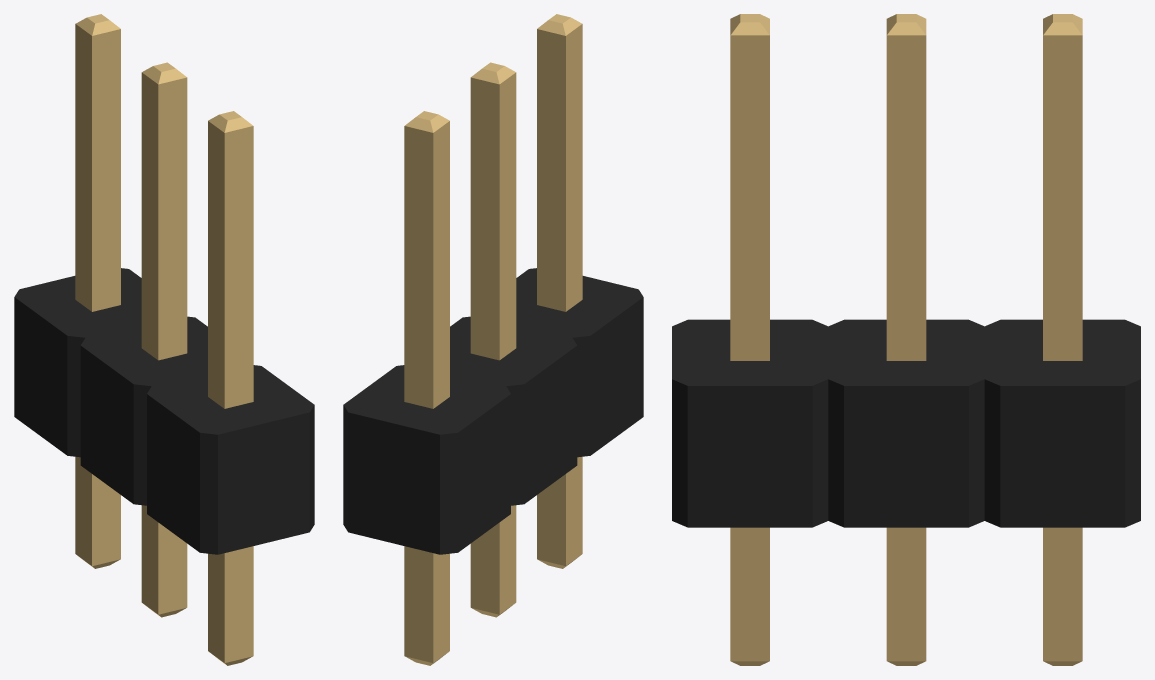
File: pinheader_1x03_p2_54mm_vertical.glb
3 renders of one model, left to right at view 1: azimuth 30°, elevation 25°; view 2: azimuth 150°, elevation 25°; view 3: azimuth 270°, elevation 25°, orthographic. The views are drawn at different scales.
Parts seen in each view (by area): view 1: conn_header_1x03, pin_3, pin_2, pin_1; view 2: conn_header_1x03, pin_1, pin_2, pin_3; view 3: conn_header_1x03, pin_2, pin_1, pin_3.
Part boxes in pixels (x1,y1,x2,y2): conn_header_1x03: [14, 14, 314, 554]; pin_3: [208, 546, 253, 665]; pin_2: [141, 505, 187, 617]; pin_1: [75, 456, 120, 568]; conn_header_1x03: [343, 14, 643, 554]; pin_1: [404, 546, 449, 665]; pin_2: [470, 505, 516, 617]; pin_3: [537, 456, 582, 568]; conn_header_1x03: [672, 14, 1140, 527]; pin_2: [886, 527, 926, 665]; pin_1: [1043, 527, 1082, 665]; pin_3: [730, 527, 769, 665].
Size of the model in its own units: 0.00254 by 0.0115 by 0.00762.
